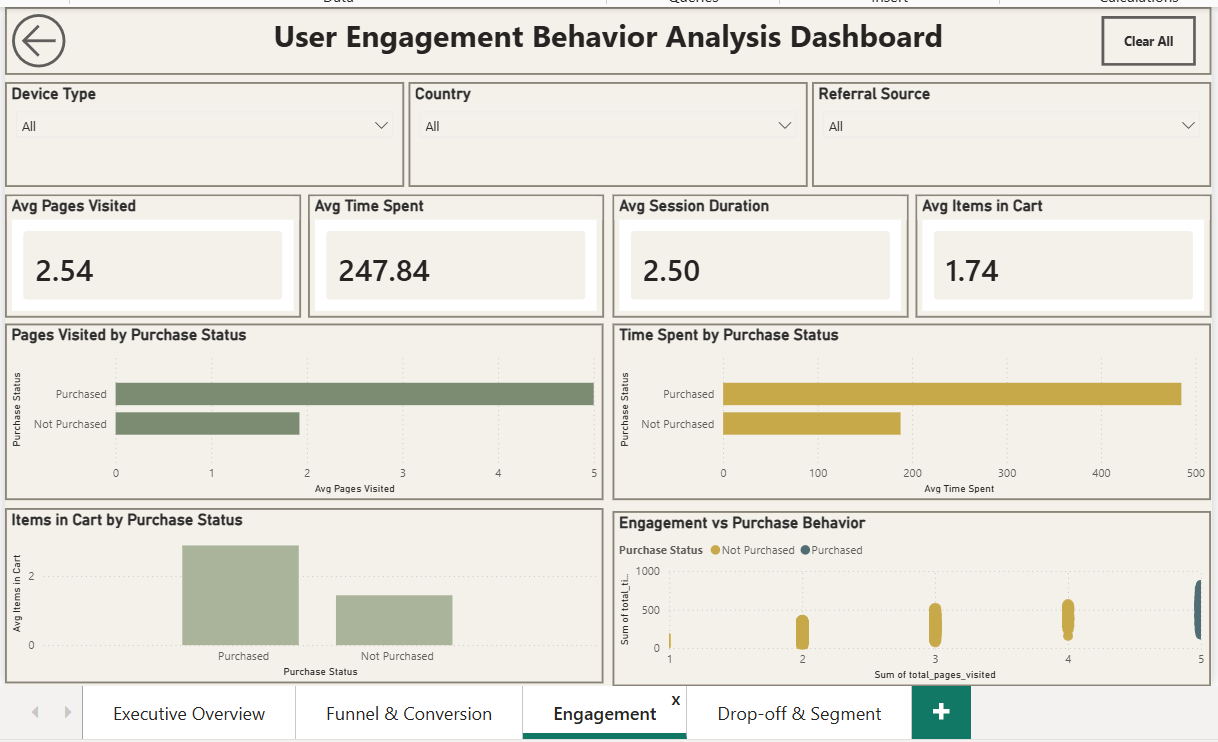

The page's visual inventory and layout, read from the dashboard file:
{"tool":"powerbi","page":{"name":"Engagement","canvas":[1280,720],"ordinal":2},"visuals":[{"type":"textbox","box":[0,0,1279.4,71.8],"z":0},{"type":"slicer","title":"Device Type","fields":{"Values":["session_master.device_type"]},"box":[0,79.4,423.3,111.5],"z":1000},{"type":"slicer","title":"Referral Source","fields":{"Values":["session_master.referral_source"]},"box":[856.1,79.4,423.3,111.5],"z":2000},{"type":"slicer","title":"Country","fields":{"Values":["session_master.country"]},"box":[427.1,79.4,423.3,111.5],"z":3000},{"type":"cardVisual","title":"Avg Pages Visited","fields":{"Data":["session_master.Avg Pages Visited"]},"box":[0,198.4,313.7,130.4],"z":4000},{"type":"cardVisual","title":"Avg Items in Cart","fields":{"Data":["session_master.Avg Items in Cart"]},"box":[965.7,198.4,313.7,130.4],"z":5000},{"type":"cardVisual","title":"Avg Session Duration","fields":{"Data":["session_master.Avg Session Duration"]},"box":[644.4,198.4,313.7,130.4],"z":6000},{"type":"cardVisual","title":"Avg Time Spent","fields":{"Data":["session_master.Avg Time Spent"]},"box":[321.3,198.4,313.7,130.4],"z":7000},{"type":"clusteredBarChart","title":"Pages Visited by Purchase Status","fields":{"Category":["session_master.Purchase Status"],"Y":["session_master.Avg Pages Visited"]},"box":[0,336.4,635,187.1],"z":8000},{"type":"clusteredColumnChart","title":"Items in Cart by Purchase Status","fields":{"Category":["session_master.Purchase Status"],"Y":["session_master.Avg Items in Cart"]},"box":[0,531.3,634.7,186.1],"z":9000},{"type":"clusteredBarChart","title":"Time Spent by Purchase Status","fields":{"Category":["session_master.Purchase Status"],"Y":["session_master.Avg Time Spent"]},"box":[644.4,336.4,635,187.1],"z":10000},{"type":"scatterChart","title":"Engagement vs Purchase Behavior","fields":{"Category":["session_master.session_id"],"X":["Sum(session_master.total_pages_visited)"],"Y":["Sum(session_master.total_time_spent_seconds)"],"Series":["session_master.Purchase Status"],"Size":["Sum(session_master.max_items_in_cart)"]},"box":[644.2,534.4,634.7,186.1],"z":11000},{"type":"actionButton","box":[0,0,81.1,71.6],"z":12000},{"type":"actionButton","box":[1162.2,9.4,100.2,52.9],"z":13000}]}

Visuals, with their boxes on the page's 1280x720 design canvas (x1, y1, x2, y2). These are canvas units, not pixel positions in the 1218x742 screenshot, which may show the page scaled, cropped or inside an application window:
textbox: pyautogui.locateOnScreen(0, 0, 1279, 72)
"Device Type" slicer: pyautogui.locateOnScreen(0, 79, 423, 191)
"Referral Source" slicer: pyautogui.locateOnScreen(856, 79, 1279, 191)
"Country" slicer: pyautogui.locateOnScreen(427, 79, 850, 191)
"Avg Pages Visited" cardVisual: pyautogui.locateOnScreen(0, 198, 314, 329)
"Avg Items in Cart" cardVisual: pyautogui.locateOnScreen(966, 198, 1279, 329)
"Avg Session Duration" cardVisual: pyautogui.locateOnScreen(644, 198, 958, 329)
"Avg Time Spent" cardVisual: pyautogui.locateOnScreen(321, 198, 635, 329)
"Pages Visited by Purchase Status" clusteredBarChart: pyautogui.locateOnScreen(0, 336, 635, 524)
"Items in Cart by Purchase Status" clusteredColumnChart: pyautogui.locateOnScreen(0, 531, 635, 717)
"Time Spent by Purchase Status" clusteredBarChart: pyautogui.locateOnScreen(644, 336, 1279, 524)
"Engagement vs Purchase Behavior" scatterChart: pyautogui.locateOnScreen(644, 534, 1279, 720)
actionButton: pyautogui.locateOnScreen(0, 0, 81, 72)
actionButton: pyautogui.locateOnScreen(1162, 9, 1262, 62)
